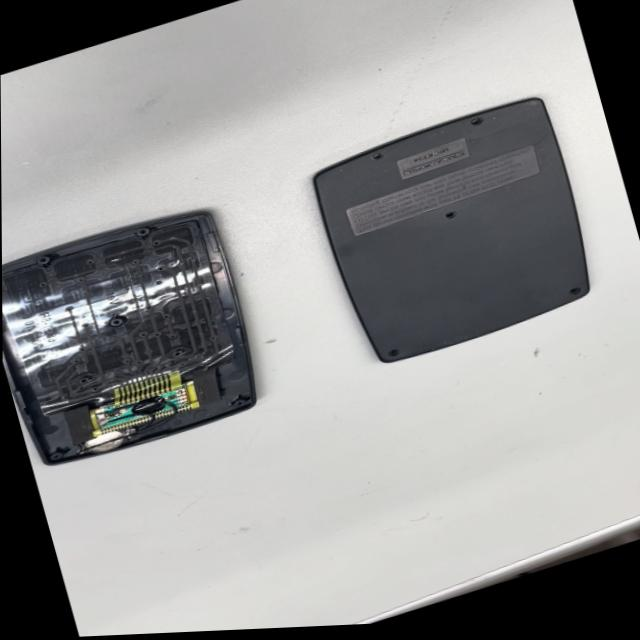back_cover: (296, 76, 610, 383)
front_panel: (1, 184, 287, 490)
